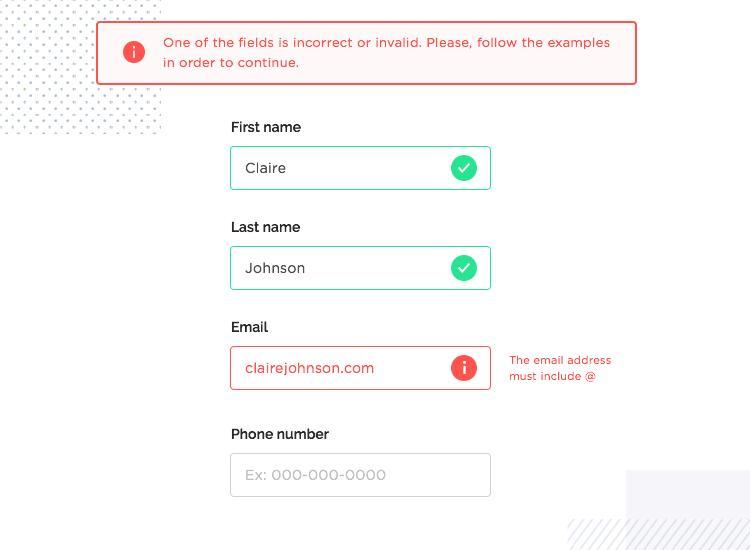input: (232, 452, 492, 499), (230, 147, 492, 191), (231, 247, 493, 291), (230, 346, 492, 390)
label: (229, 424, 334, 447), (230, 119, 307, 139), (229, 219, 304, 238), (229, 319, 274, 338)
